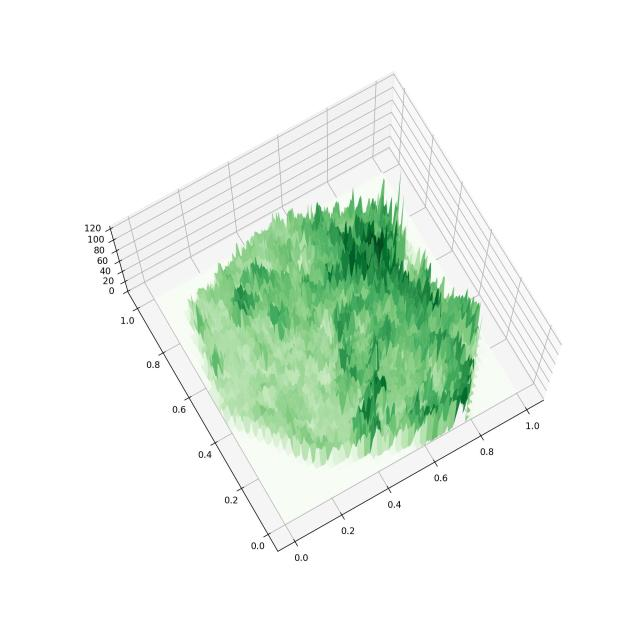spruce: (59, 40, 596, 582)
